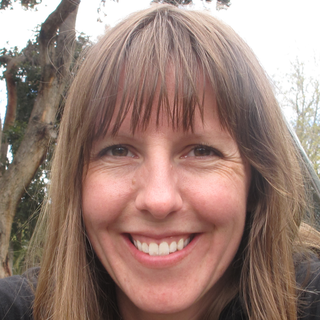eye: (92, 142, 143, 165), (175, 142, 229, 163)
